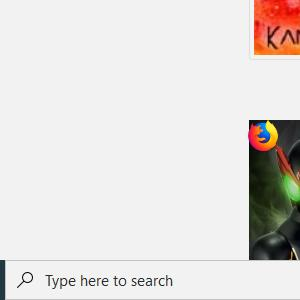firefox: (248, 119, 279, 152)
